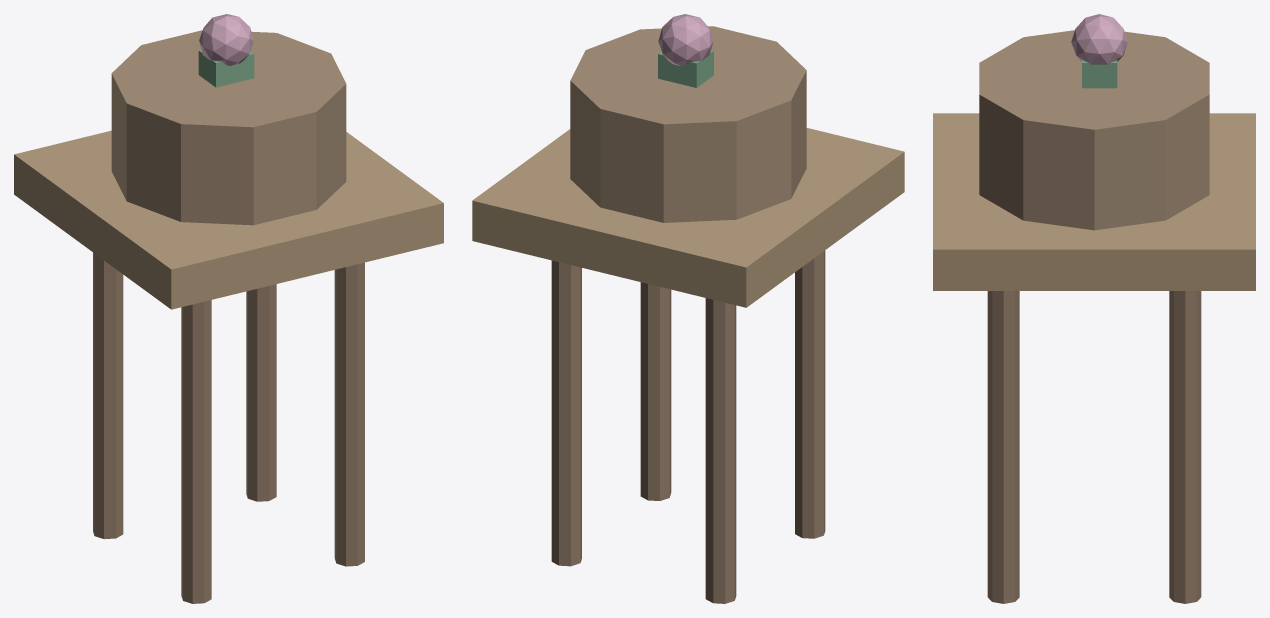
Rendered from archer_tower.glb.
3 renders of one model, left to right at view 1: azimuth 30°, elevation 25°; view 2: azimuth 150°, elevation 25°; view 3: azimuth 270°, elevation 25°, orthographic. The views are drawn at different scales.
Visible parts, largest first — view 1: archer_tower_5, archer_tower_4, archer_tower_1, archer_tower_3, archer_tower_0, archer_tower_2, archer_tower_6, archer_tower_7; view 2: archer_tower_5, archer_tower_4, archer_tower_0, archer_tower_2, archer_tower_1, archer_tower_3, archer_tower_6, archer_tower_7; view 3: archer_tower_5, archer_tower_4, archer_tower_2, archer_tower_3, archer_tower_6, archer_tower_7.
Boxes of the visible parts, x1,y1,x2,y2 form: archer_tower_5: (111, 30, 346, 225); archer_tower_4: (14, 130, 443, 309); archer_tower_1: (181, 300, 211, 603); archer_tower_3: (334, 262, 364, 566); archer_tower_0: (93, 252, 123, 539); archer_tower_2: (246, 284, 276, 501); archer_tower_6: (199, 14, 253, 65); archer_tower_7: (198, 50, 254, 87); archer_tower_5: (570, 26, 806, 222); archer_tower_4: (472, 128, 904, 307); archer_tower_0: (705, 298, 736, 603); archer_tower_2: (551, 260, 581, 566); archer_tower_1: (795, 250, 825, 538); archer_tower_3: (640, 282, 671, 500); archer_tower_6: (658, 14, 713, 66); archer_tower_7: (658, 50, 713, 87); archer_tower_5: (979, 30, 1209, 230); archer_tower_4: (933, 113, 1255, 290); archer_tower_2: (1169, 291, 1201, 603); archer_tower_3: (987, 291, 1019, 603); archer_tower_6: (1071, 14, 1127, 64); archer_tower_7: (1082, 60, 1117, 88).
Bounding box in the file's own units: 3.2 × 5.93 × 3.2.
